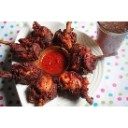chicken_lollipop: (70, 42, 118, 73), (58, 71, 97, 105), (24, 73, 58, 107), (1, 34, 41, 61), (1, 62, 42, 87), (54, 20, 80, 48)
